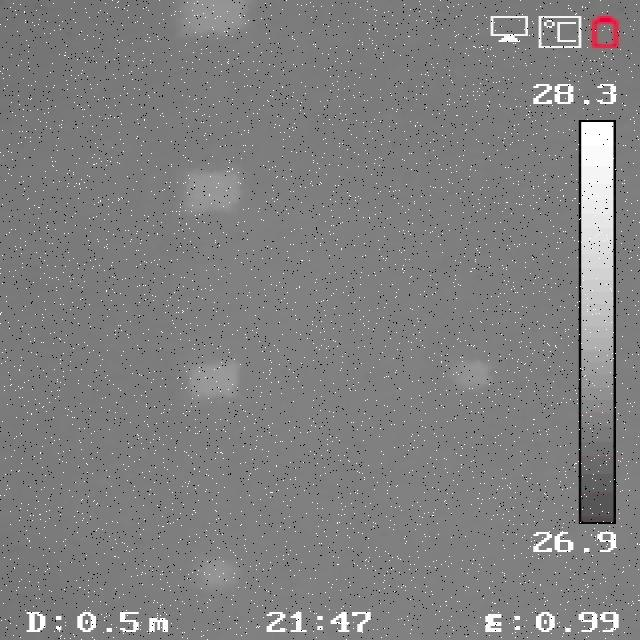Indistinguishable 4-bar target: (178, 2, 245, 36), (187, 169, 237, 209), (193, 363, 240, 396), (200, 557, 243, 585), (451, 356, 488, 388)
